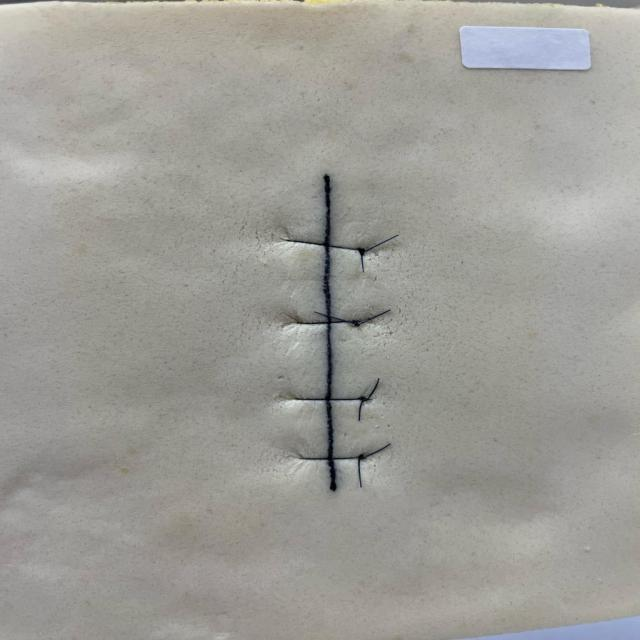knot: (355, 246, 367, 258), (350, 318, 362, 328), (356, 395, 371, 403), (356, 452, 366, 461)
leftover: (361, 234, 399, 253), (313, 310, 357, 325), (355, 309, 391, 326), (361, 442, 391, 460), (365, 377, 380, 401), (357, 398, 366, 422), (357, 457, 363, 488), (359, 253, 365, 273)
stitch: (284, 239, 366, 251), (294, 396, 366, 401), (299, 455, 365, 460), (297, 320, 360, 325)
wound: (324, 174, 335, 489)
